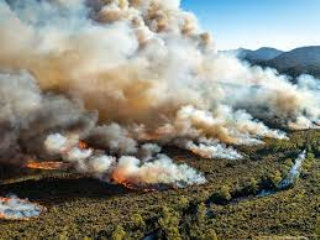smoke: (146, 45, 316, 150), (74, 1, 214, 71), (97, 121, 203, 190)
